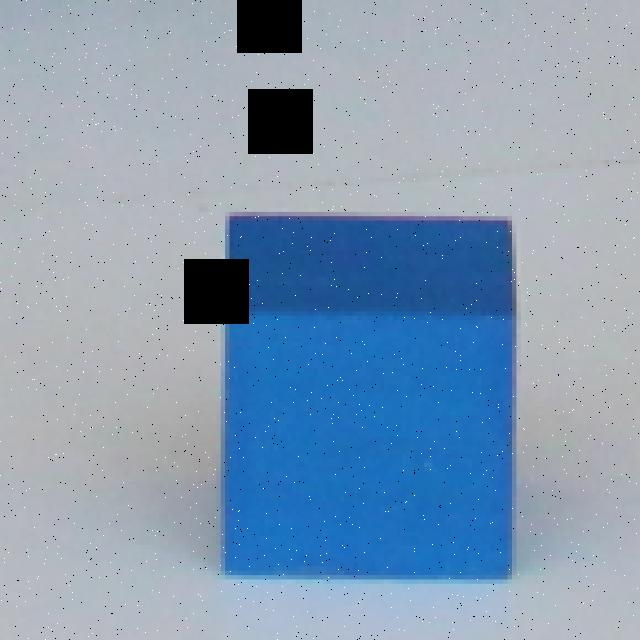bluecube: (220, 211, 515, 584)
